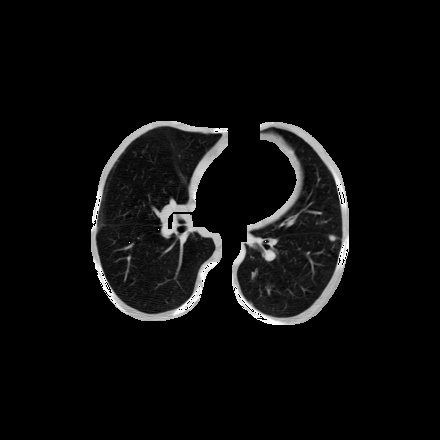PN: (328, 234, 336, 242)
